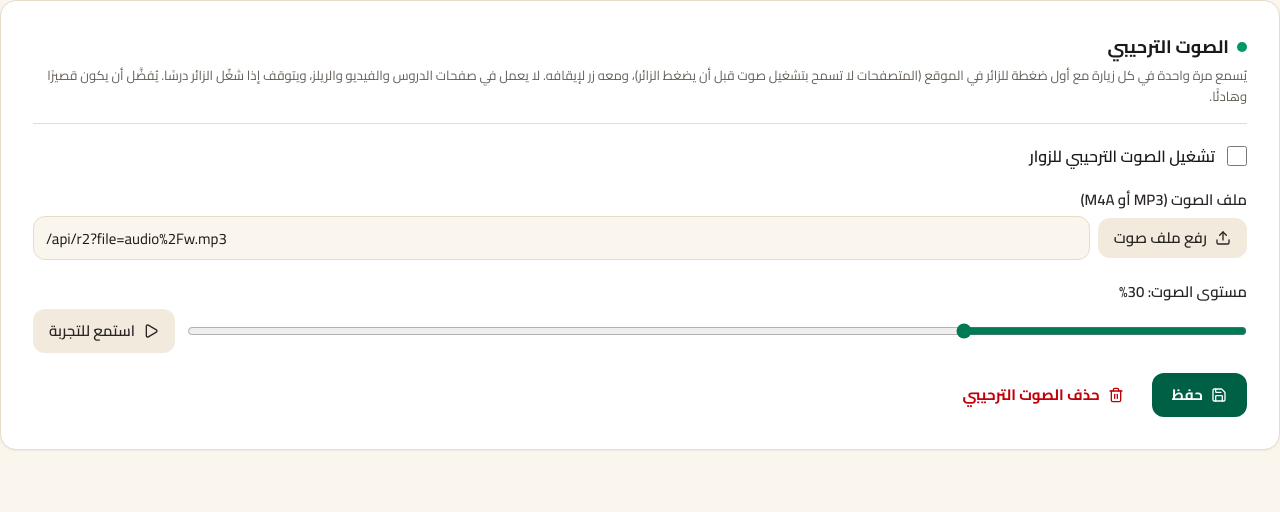
Test case: WelcomeSoundSettings › shows the message when saving is refused
What coordinates should you click on to do the following:
click the button "حفظ"
I would click on:
 (1199, 395)
Its box is left=1152, top=373, right=1247, bottom=417.
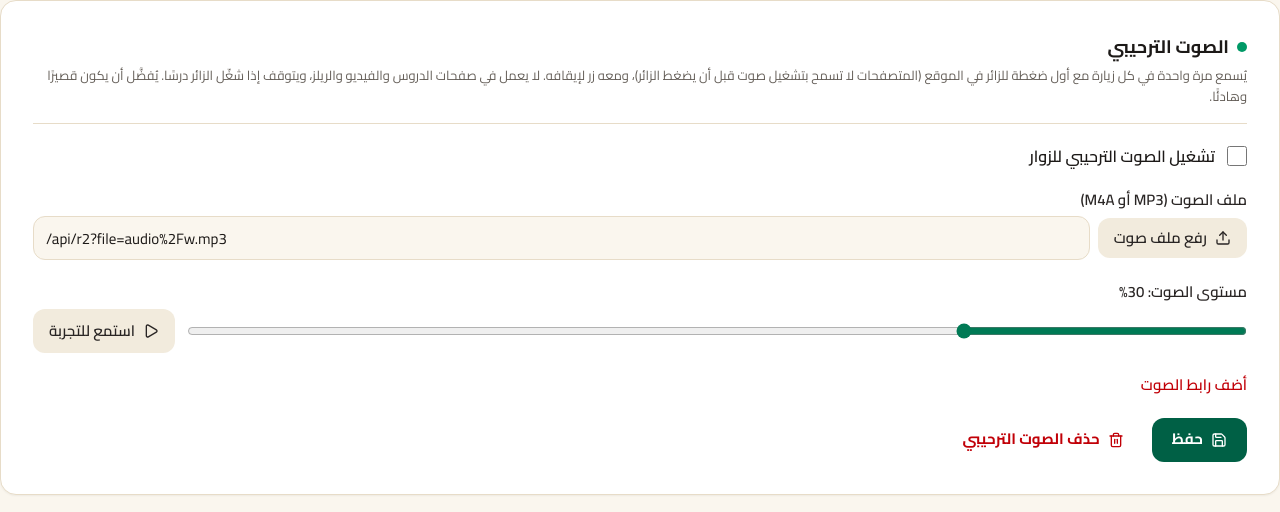
Expected: the message reads "أضف رابط الصوت", left=1141, top=370, right=1247, bottom=399
